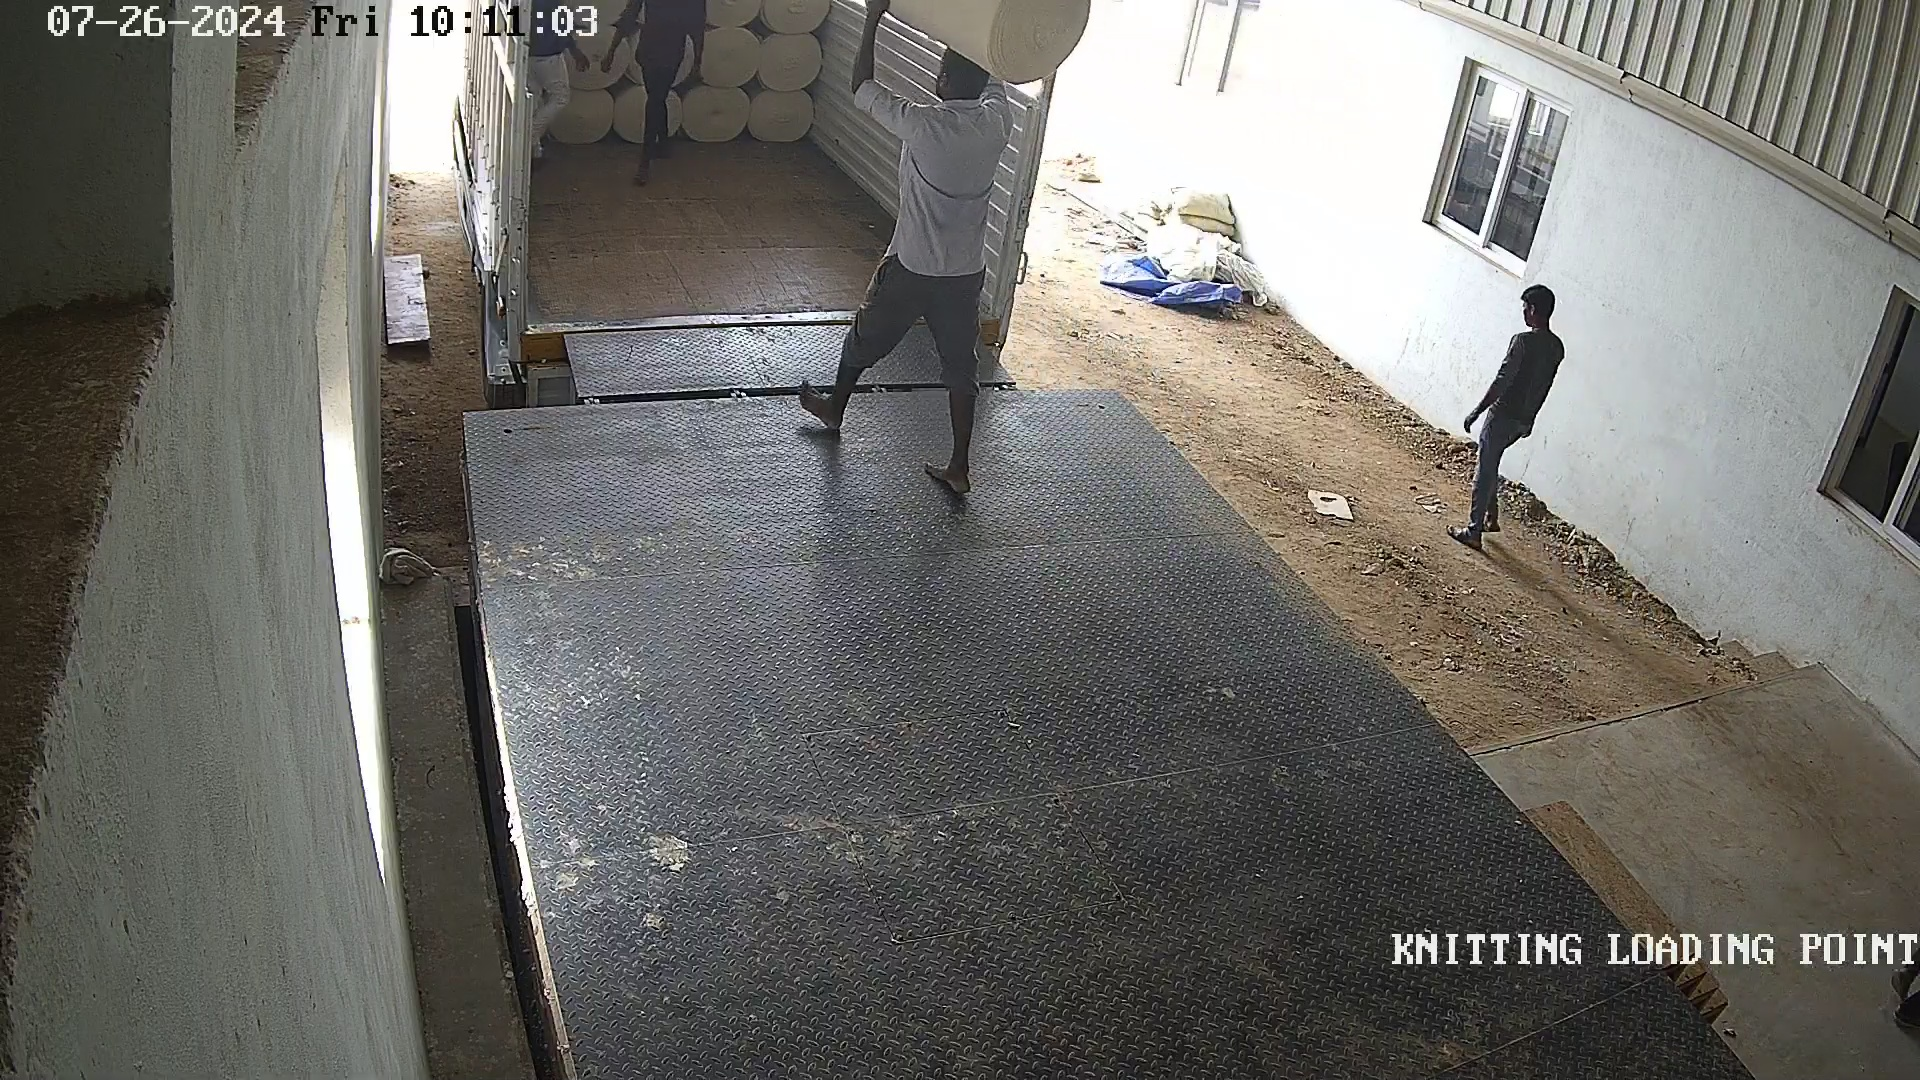bag: (857, 4, 1124, 86)
